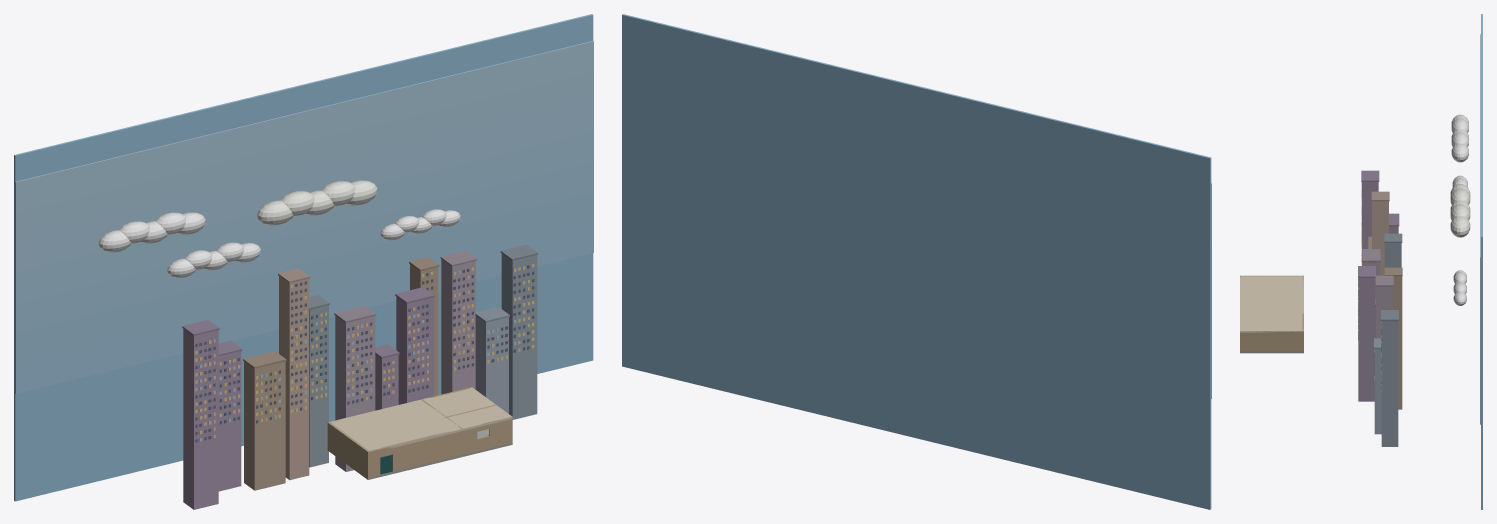
File: MistressFlat.fbx
The picture shows the model from 3 angles, left to right: view 1: azimuth 30°, elevation 25°; view 2: azimuth 150°, elevation 25°; view 3: azimuth 270°, elevation 25°; orthographic projection. The views are drawn at different scales.
Parts seen in each view (by area): view 1: O_20_17_0, O_19_18_0, O_18_18_0, O_20_18_0, O_20_20_0, O_22_18_0, O_21_18_0, O_18_17_0, O_19_20_0, O_19_17_0, O_21_17_0, N_20_18_0 (+2 smaller); view 2: O_20_17_0; view 3: O_20_20_0, O_22_18_0, O_20_18_0, O_20_17_0, O_21_18_0, O_19_18_0, O_21_20_0, O_18_18_0, O_18_17_0, O_21_17_0.
Part boxes in pixels (<box>): O_20_17_0: <box>14,14,593,501</box>; O_19_18_0: <box>243,268,329,490</box>; O_18_18_0: <box>182,320,242,509</box>; O_20_18_0: <box>324,287,434,471</box>; O_20_20_0: <box>329,387,512,479</box>; O_22_18_0: <box>475,244,538,419</box>; O_21_18_0: <box>409,251,494,396</box>; O_18_17_0: <box>98,212,205,277</box>; O_19_20_0: <box>327,422,392,479</box>; O_19_17_0: <box>184,242,260,270</box>; O_21_17_0: <box>380,209,446,240</box>; N_20_18_0: <box>324,307,424,400</box>; O_20_17_0: <box>622,14,1211,509</box>; O_20_20_0: <box>1240,275,1303,353</box>; O_22_18_0: <box>1374,310,1398,446</box>; O_20_18_0: <box>1358,249,1380,401</box>; O_20_17_0: <box>1450,14,1482,509</box>; O_21_18_0: <box>1375,267,1402,409</box>; O_19_18_0: <box>1368,191,1402,275</box>; O_21_20_0: <box>1240,331,1303,351</box>; O_18_18_0: <box>1361,170,1399,265</box>; O_18_17_0: <box>1451,114,1468,184</box>; O_21_17_0: <box>1453,270,1466,293</box>.
Bounding box in the file's own units: 280 × 160 × 129.
